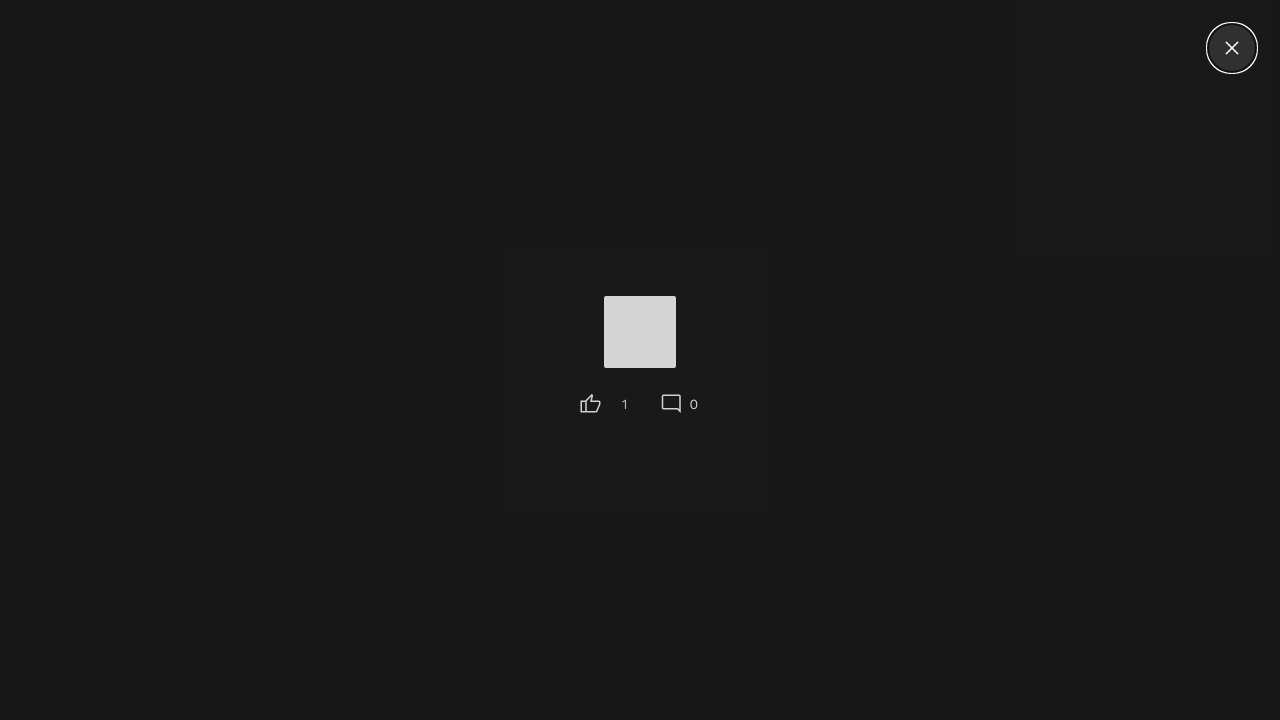
Scenario: PhotoLightbox › Escape closes the reactors modal without also closing the lightbox
Click the button named "See who reacted (1)".
click(625, 404)  # box [614,388,635,420]
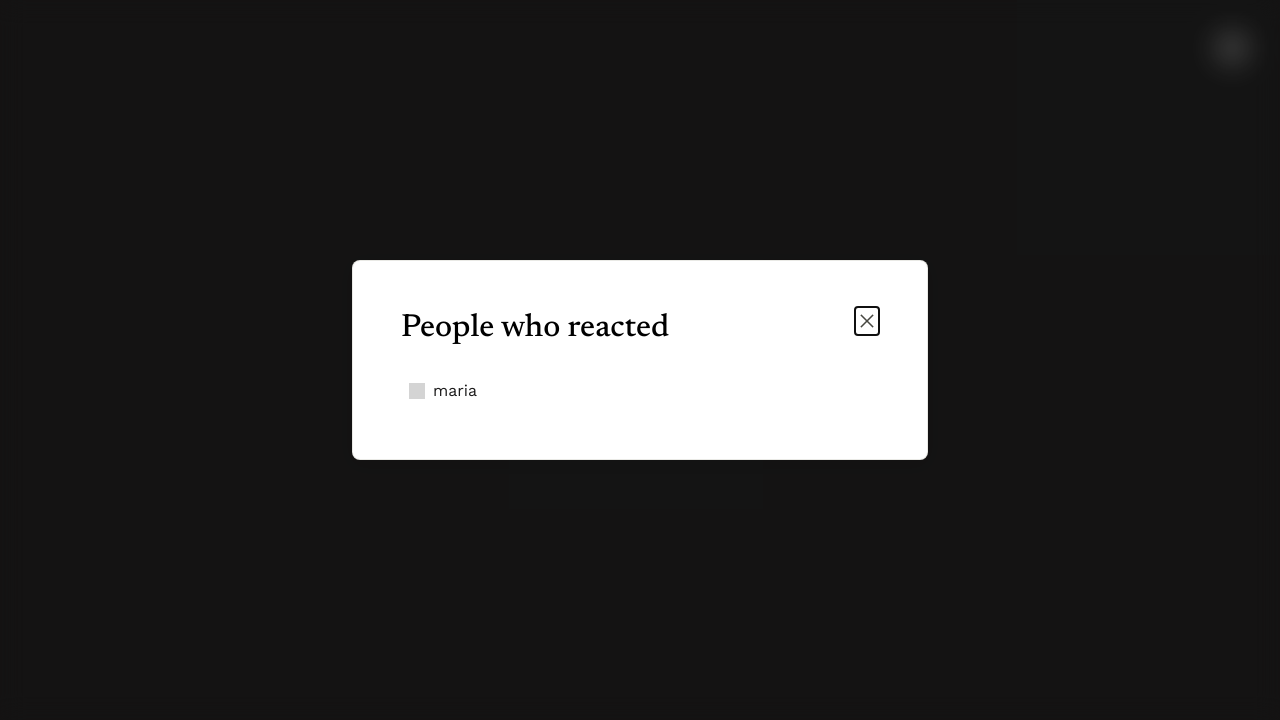
Expected: the link "maria" is shown, [409,381,477,400]
Press Escape
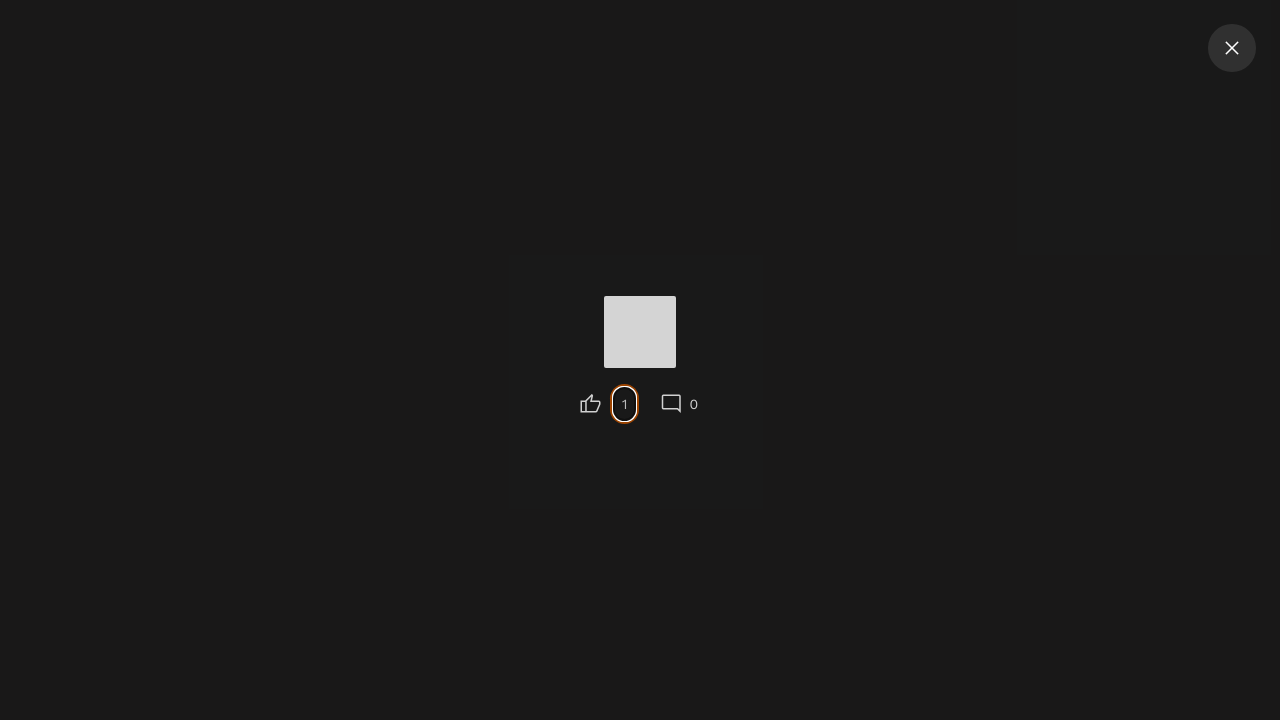
Expected: the link "maria" is gone
